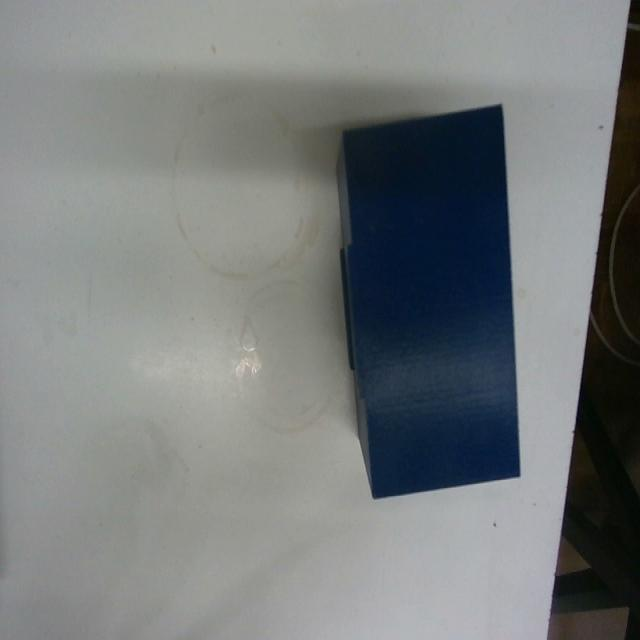Blue Cuboid: (333, 100, 522, 500)
